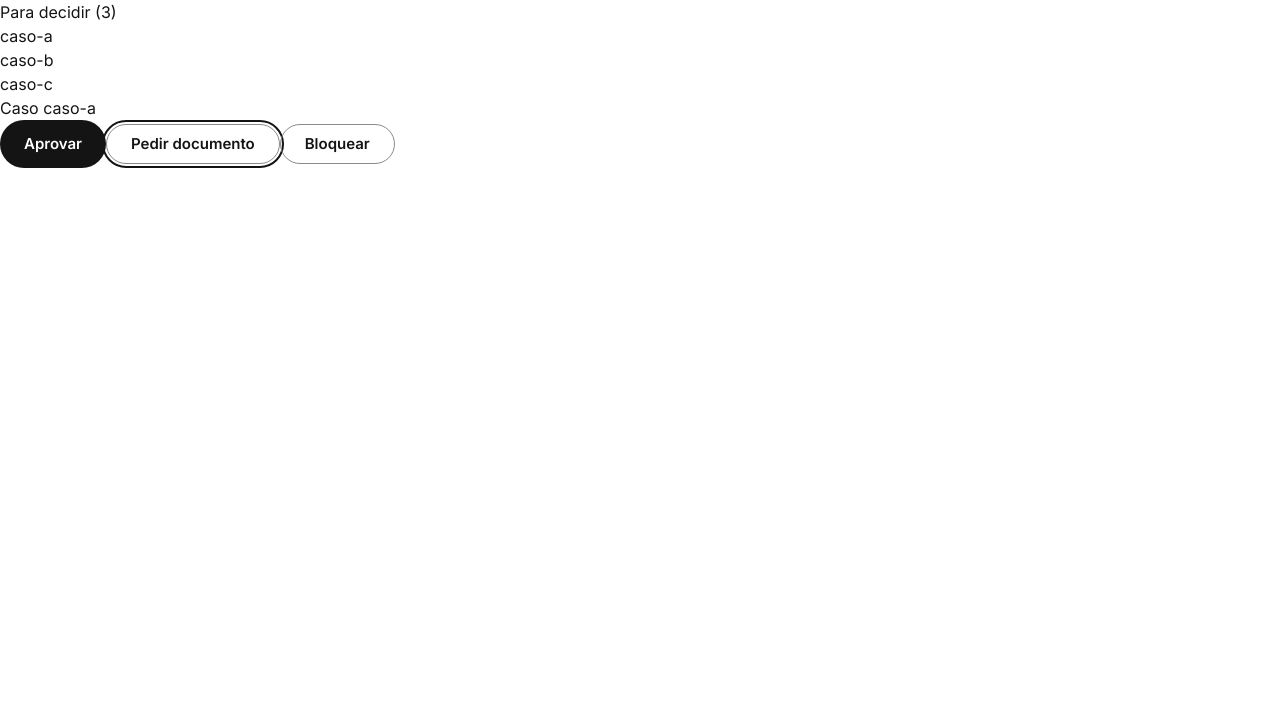
Test: Pedir documento dialog (T108; AC 36, AC 37; D10, D11; F5, F6, F7) › only the workspace's enabled types are offered
This screenshot has width=1280, height=720.
Click the button "Pedir documento". click: (193, 144)
box: 106,124 -> 280,164
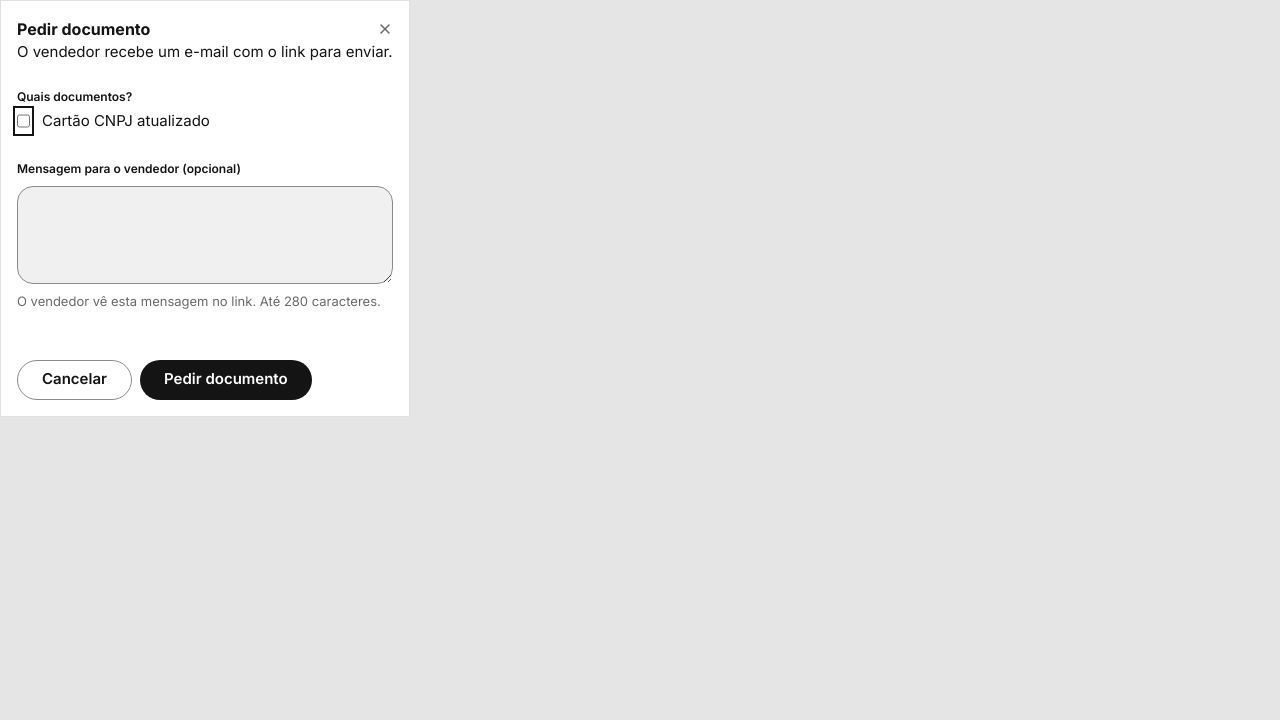
Expected: the number of checkboxes is 1, 17,110 -> 30,132
